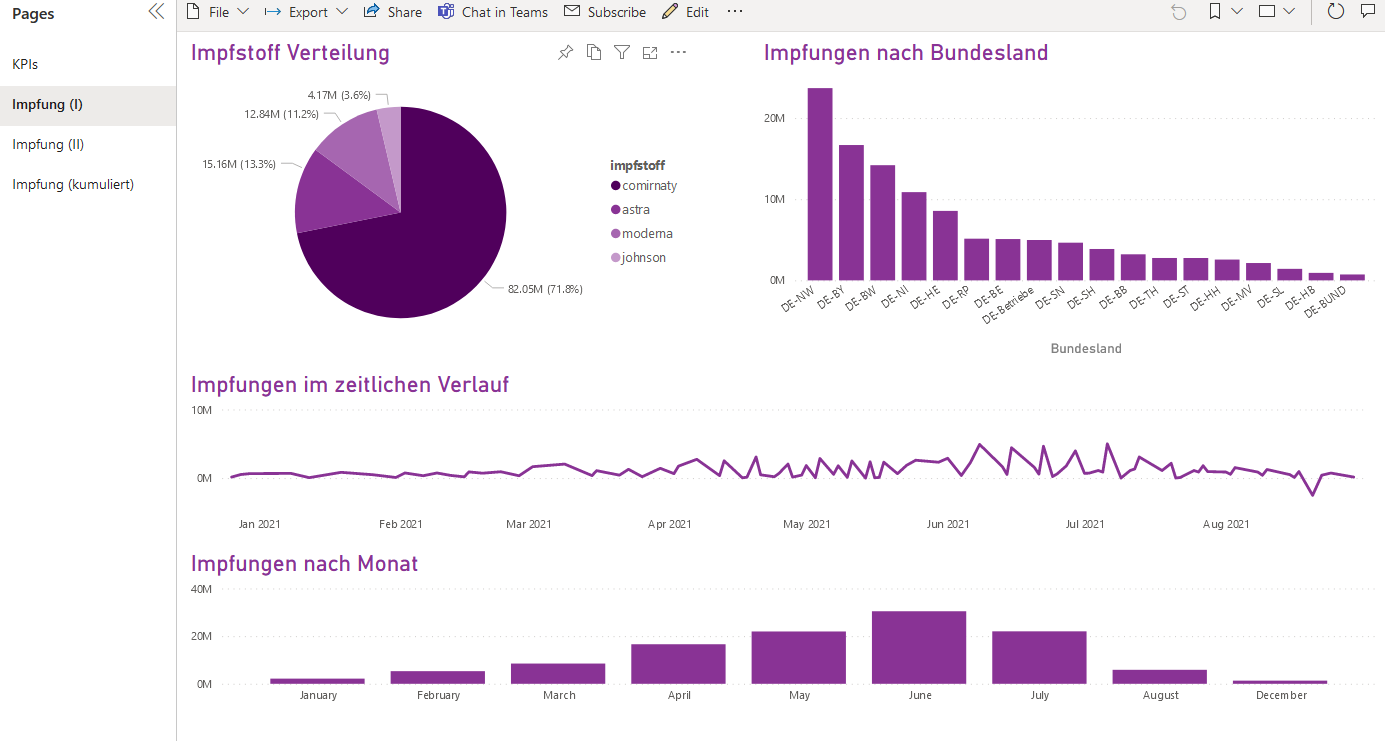

The page's visual inventory and layout, read from the dashboard file:
{"tool":"powerbi","page":{"name":"Impfung (I)","canvas":[1280,720],"ordinal":1},"visuals":[{"type":"pieChart","title":"Impfstoff Verteilung","fields":{"Y":["Sum(germany_deliveries_timeseries_v2 (2).dosen)"],"Series":["germany_deliveries_timeseries_v2 (2).impfstoff"]},"box":[10,8,533.5,340.6],"z":0},{"type":"clusteredColumnChart","title":"Impfungen nach Bundesland","fields":{"Category":["germany_deliveries_timeseries_v2 (2).region"],"Y":["Sum(germany_deliveries_timeseries_v2 (2).dosen)"]},"box":[615.9,8,659.1,340.6],"z":1000},{"type":"lineChart","title":"Impfungen im zeitlichen Verlauf","fields":{"Y":["Sum(germany_deliveries_timeseries_v2 (2).dosen)"],"Category":["germany_deliveries_timeseries_v2 (2).date"]},"box":[10,359.7,1264.9,179.8],"z":2000},{"type":"columnChart","title":"Impfungen nach Monat","fields":{"Category":["germany_deliveries_timeseries_v2.date.Variation.Date Hierarchy.Month"],"Y":["Sum(germany_deliveries_timeseries_v2.dosen)"]},"box":[10,548.6,1264.9,171.8],"z":2001}]}

Visuals, with their boxes on the page's 1280x720 design canvas (x1, y1, x2, y2). These are canvas units, not pixel positions in the 1385x741 screenshot, which may show the page scaled, cropped or inside an application window:
"Impfstoff Verteilung" pieChart: x1=10, y1=8, x2=544, y2=349
"Impfungen nach Bundesland" clusteredColumnChart: x1=616, y1=8, x2=1275, y2=349
"Impfungen im zeitlichen Verlauf" lineChart: x1=10, y1=360, x2=1275, y2=540
"Impfungen nach Monat" columnChart: x1=10, y1=549, x2=1275, y2=720
